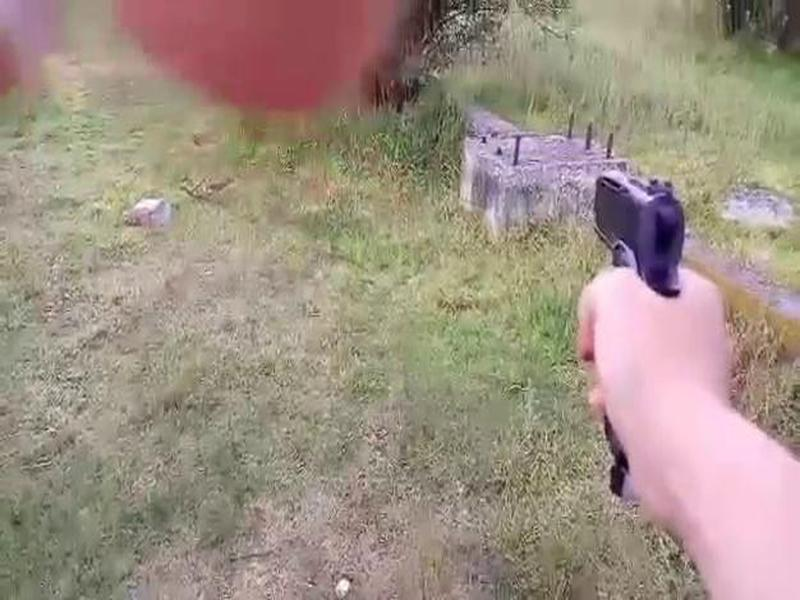Pistola: (535, 107, 704, 474)
